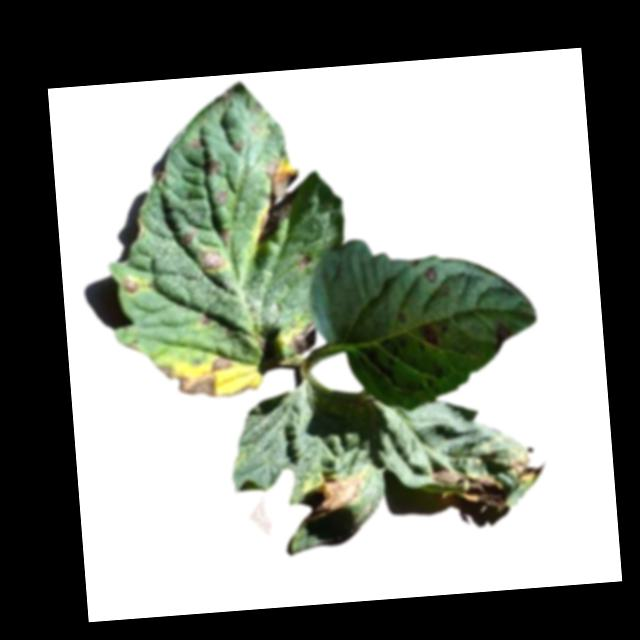Early_blight: (153, 350, 235, 403), (430, 464, 510, 515), (306, 470, 368, 518), (505, 446, 548, 487), (284, 322, 319, 357), (197, 250, 224, 271), (118, 278, 141, 296), (184, 136, 208, 152), (203, 160, 224, 178), (425, 267, 441, 287), (230, 139, 245, 155), (196, 314, 213, 327), (219, 228, 230, 246), (181, 233, 195, 247), (215, 192, 227, 207), (300, 255, 311, 269)
